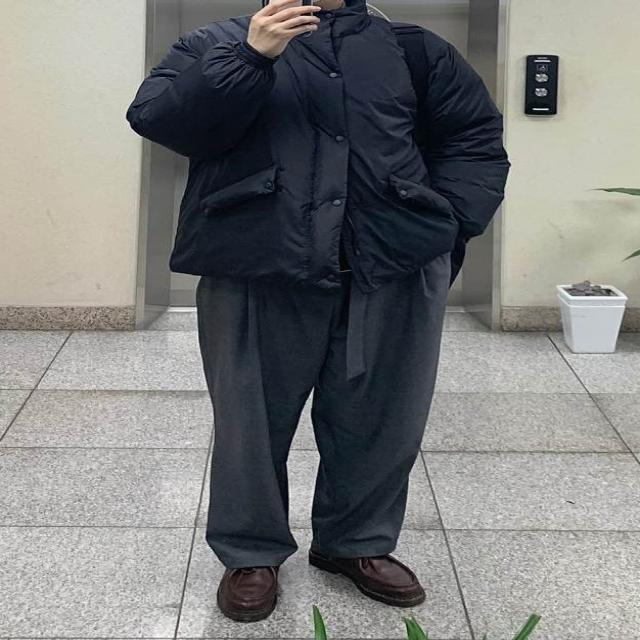padding: (130, 8, 516, 287)
slacks: (199, 262, 447, 576)
